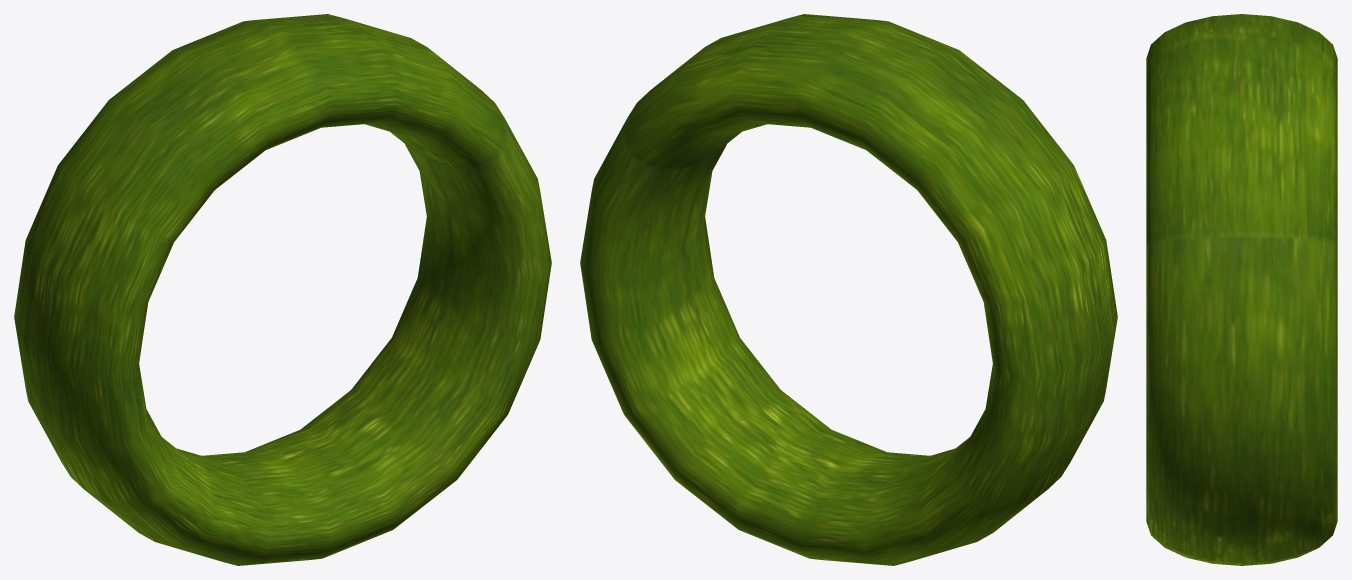
File: greenOnionSlice02.fbx
3 views of the same model, side by side, from view 1: azimuth 30°, elevation 25°; view 2: azimuth 150°, elevation 25°; view 3: azimuth 270°, elevation 25° (orthographic). The views are drawn at different scales.
Parts seen in each view (by area): view 1: greenOnionSlice2; view 2: greenOnionSlice2; view 3: greenOnionSlice2.
Part boxes in pixels (left/top/right/bottom): greenOnionSlice2: left=14, top=14, right=551, bottom=565; greenOnionSlice2: left=580, top=14, right=1117, bottom=565; greenOnionSlice2: left=1146, top=14, right=1337, bottom=565.
Bounding box in the file's own units: 0.1571 × 0.1569 × 0.054.
1 material, 1 textured.
